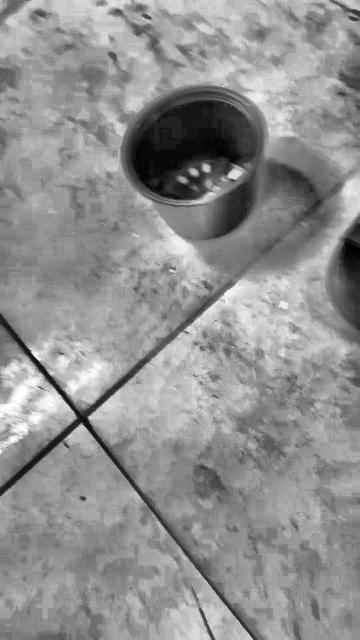pot: (123, 86, 267, 240)
